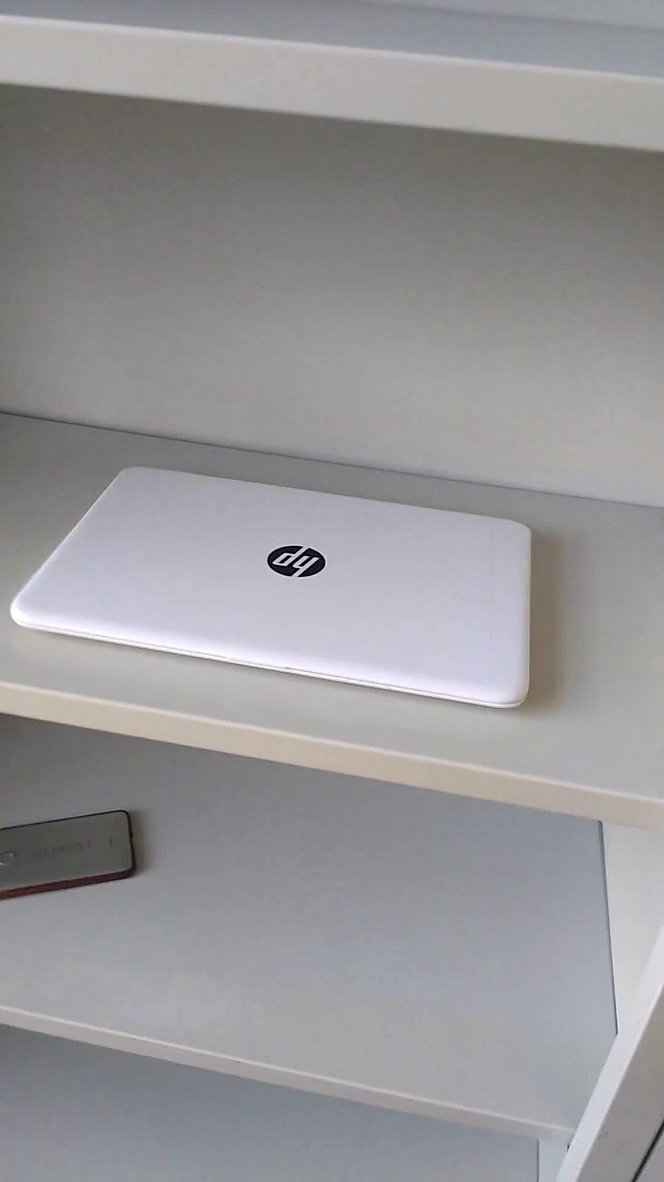laptop: (4, 452, 577, 730)
